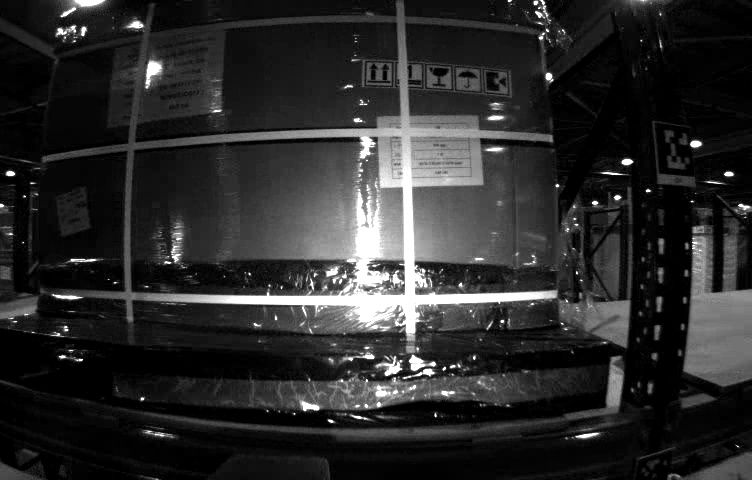True Barcode: (55, 187, 92, 234)
